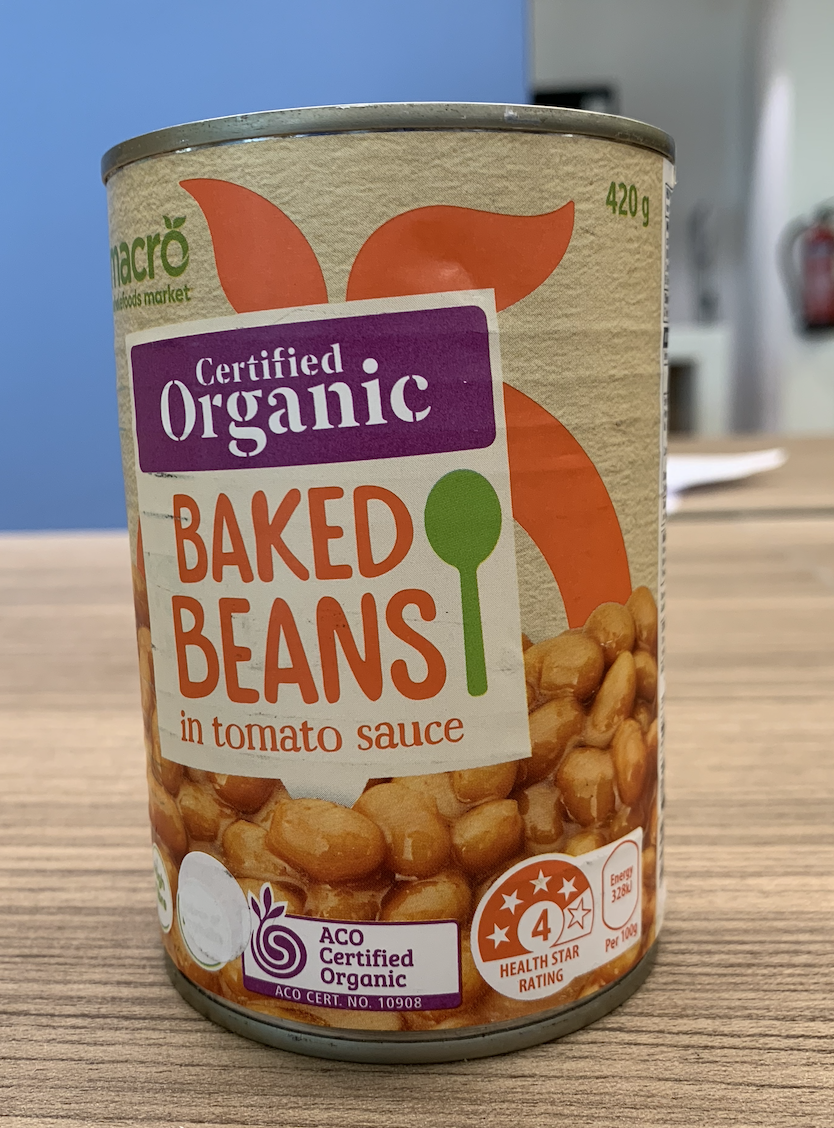Baked beans_400-499g: (140, 158, 668, 1021)
